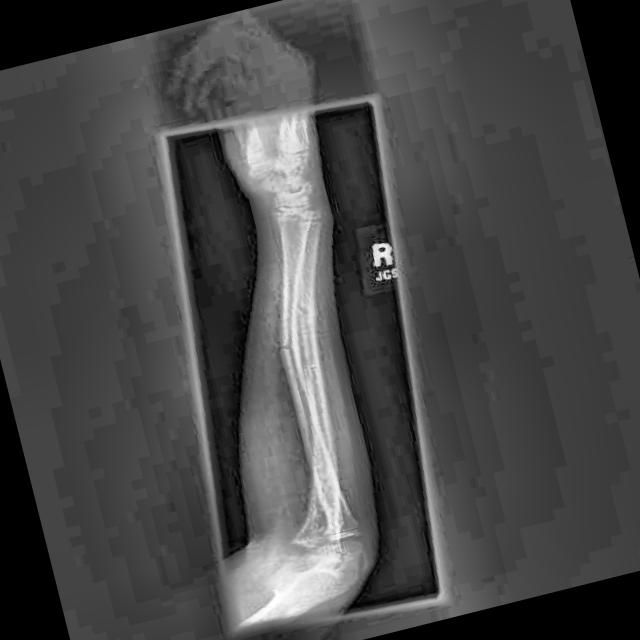forearm fracture: (272, 331, 300, 363), (291, 294, 315, 321)
